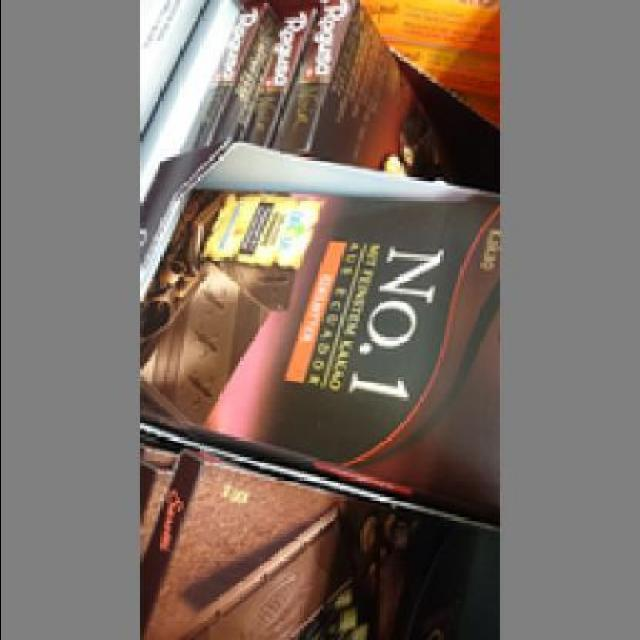Chocolate bar: (140, 190, 503, 493)
